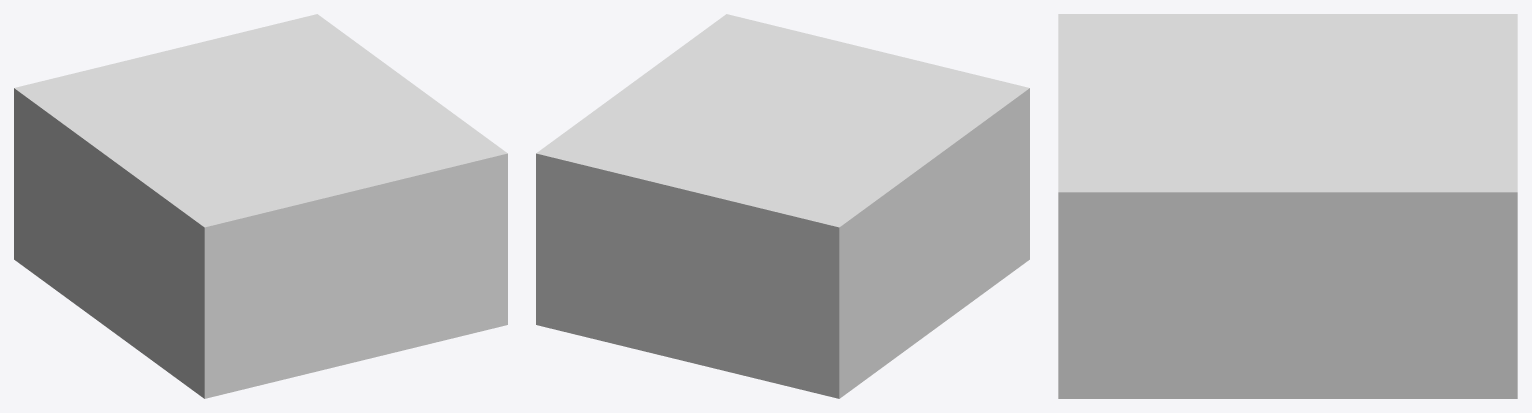
Rendered from Warming 1.fbx.
3 views of the same model, side by side, from view 1: azimuth 30°, elevation 25°; view 2: azimuth 150°, elevation 25°; view 3: azimuth 270°, elevation 25° (orthographic). The views are drawn at different scales.
Visible parts, largest first — view 1: Warming 1; view 2: Warming 1; view 3: Warming 1.
Part boxes in pixels (x1,y1,x2,y2): Warming 1: (14, 14, 507, 398); Warming 1: (536, 14, 1029, 398); Warming 1: (1058, 14, 1517, 398).
Size of the model in its own units: 1370 by 740 by 1490.
